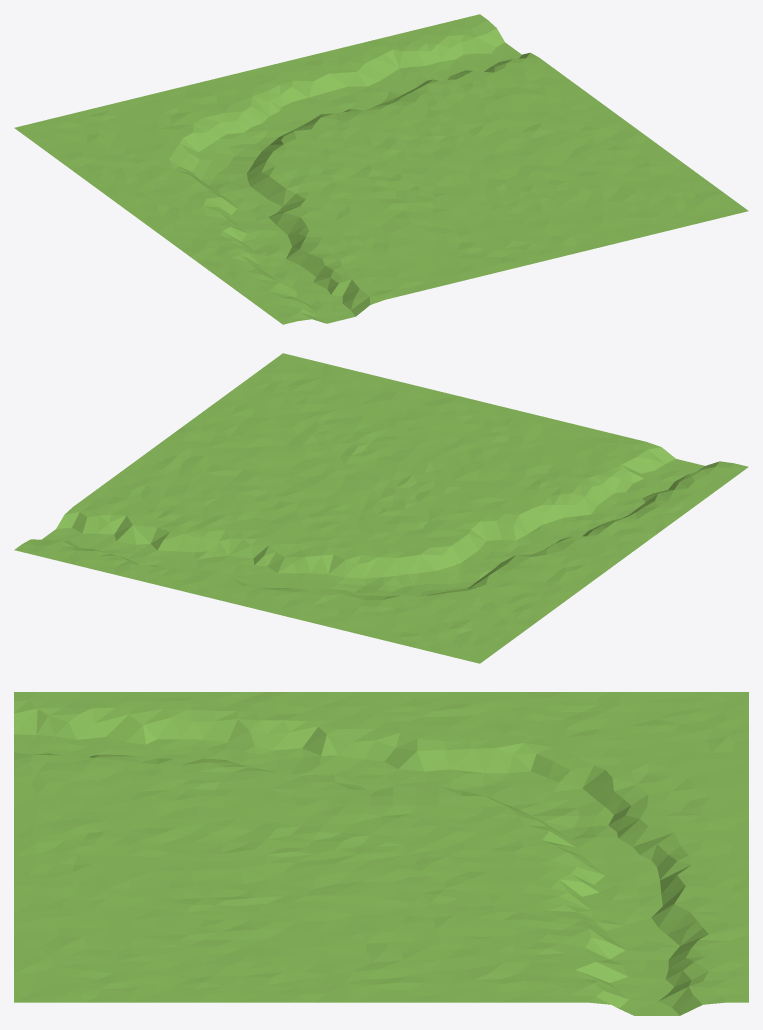
Rendered from MT_River_L_b_01_LOD.fbx.
The picture shows the model from 3 angles, top to bottom: view 1: azimuth 30°, elevation 25°; view 2: azimuth 150°, elevation 25°; view 3: azimuth 270°, elevation 25°; orthographic projection. The views are drawn at different scales.
Parts seen in each view (by area): view 1: MT_River_L_b_01_LOD0; view 2: MT_River_L_b_01_LOD0; view 3: MT_River_L_b_01_LOD0.
Boxes of the visible parts, x1=… form: MT_River_L_b_01_LOD0: x1=14, y1=14, x2=748, y2=324; MT_River_L_b_01_LOD0: x1=14, y1=353, x2=748, y2=663; MT_River_L_b_01_LOD0: x1=14, y1=692, x2=748, y2=1015.
Size of what is drawn, in the model's own units: 10000 by 270 by 10000.
